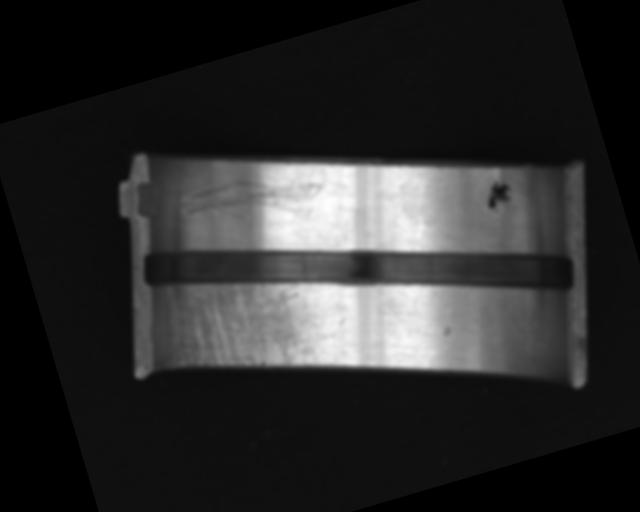blot: (482, 176, 518, 216)
bruise: (439, 323, 453, 338)
gap: (136, 139, 584, 405)
nick: (178, 154, 330, 247)
scratch: (149, 243, 346, 412)
